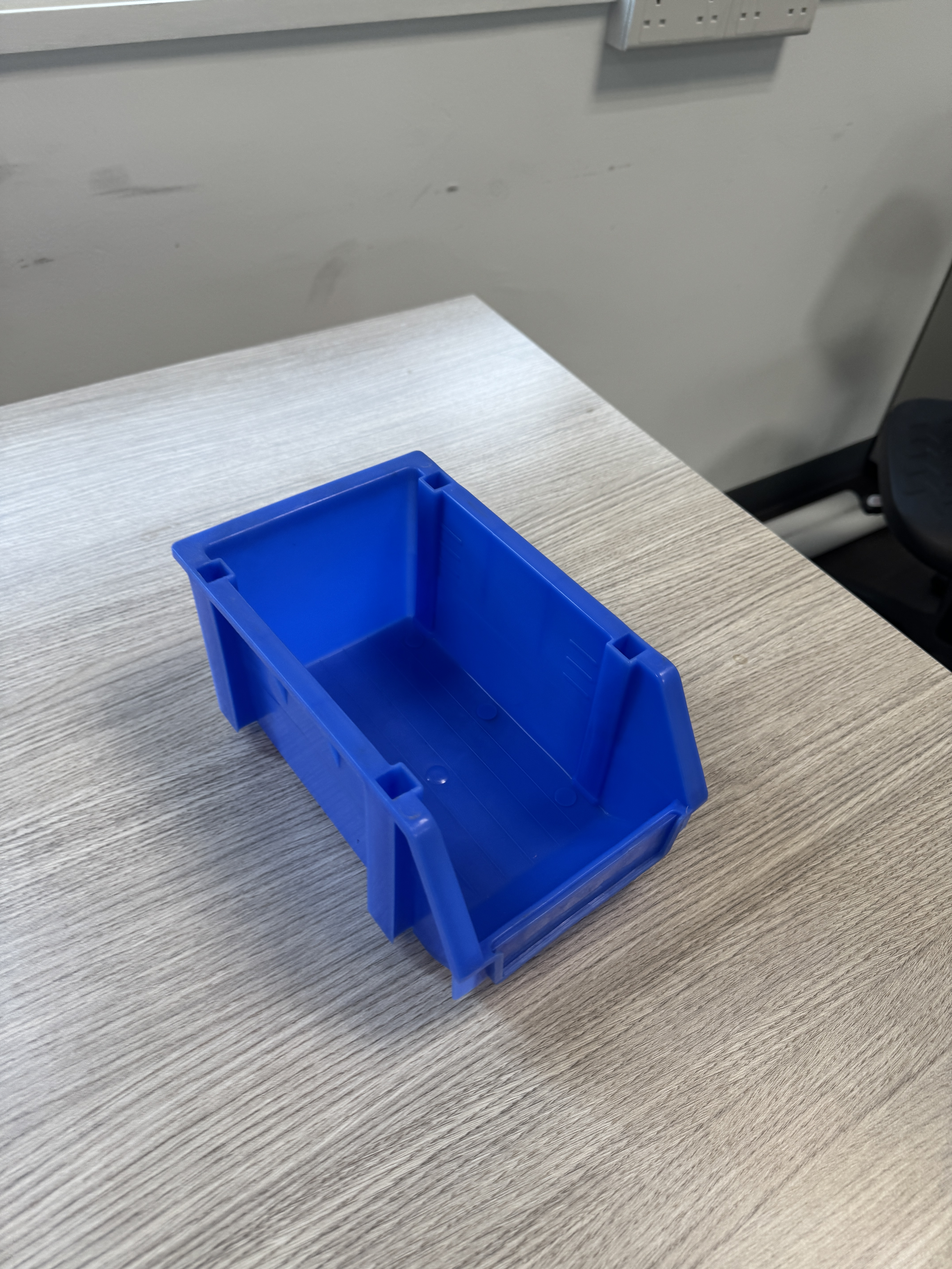Bin Boundary: (204, 380, 730, 946)
